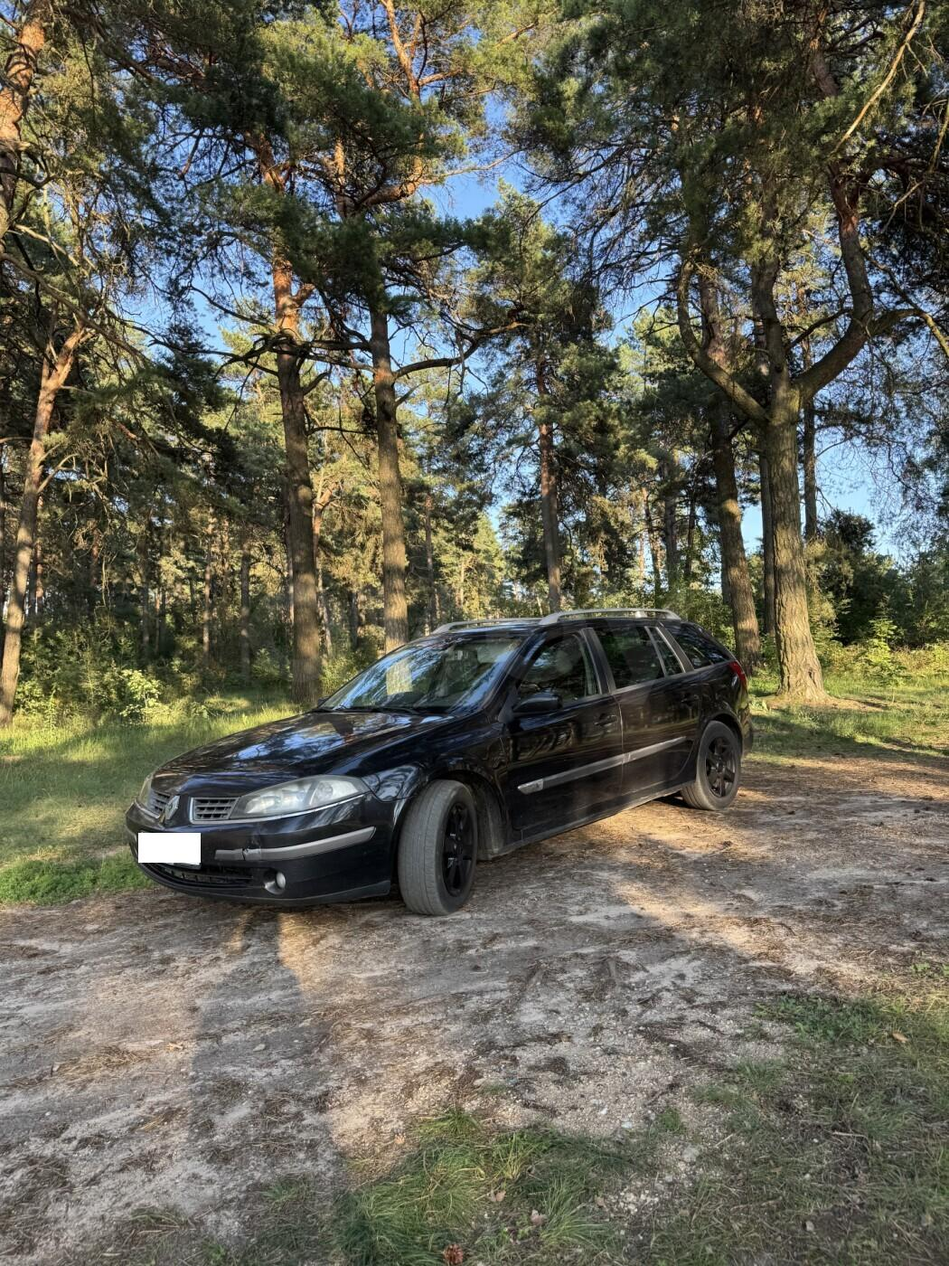Laguna_2005-2007: (117, 613, 761, 944)
